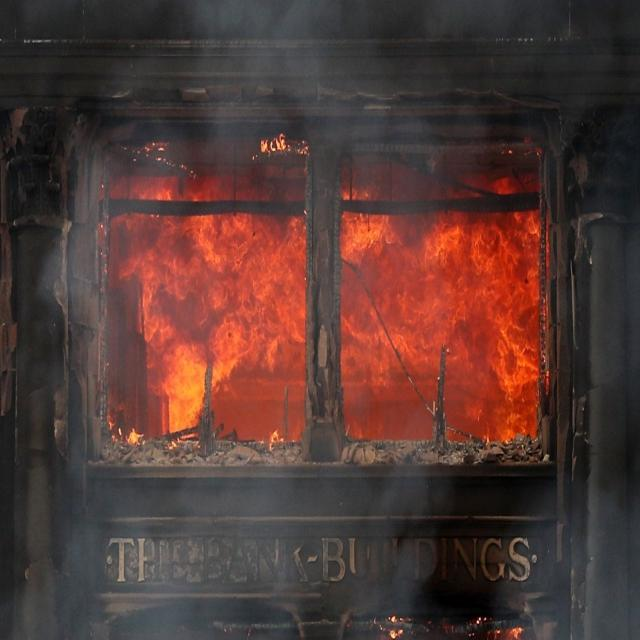Fire: (341, 157, 550, 445), (99, 174, 306, 452), (128, 136, 187, 174), (249, 130, 308, 161), (478, 612, 524, 640), (504, 136, 546, 158), (373, 616, 411, 640)
Smoke: (66, 473, 293, 640), (186, 0, 374, 132), (39, 152, 102, 370), (341, 463, 427, 612), (2, 549, 64, 640), (429, 0, 555, 42)
